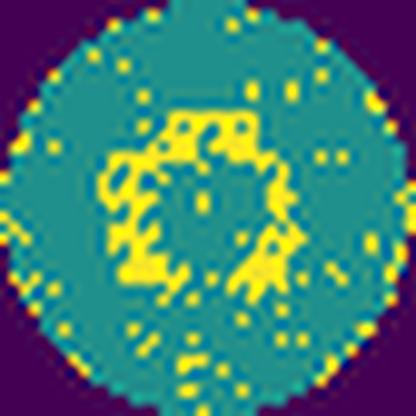Donut: (78, 94, 320, 321)
